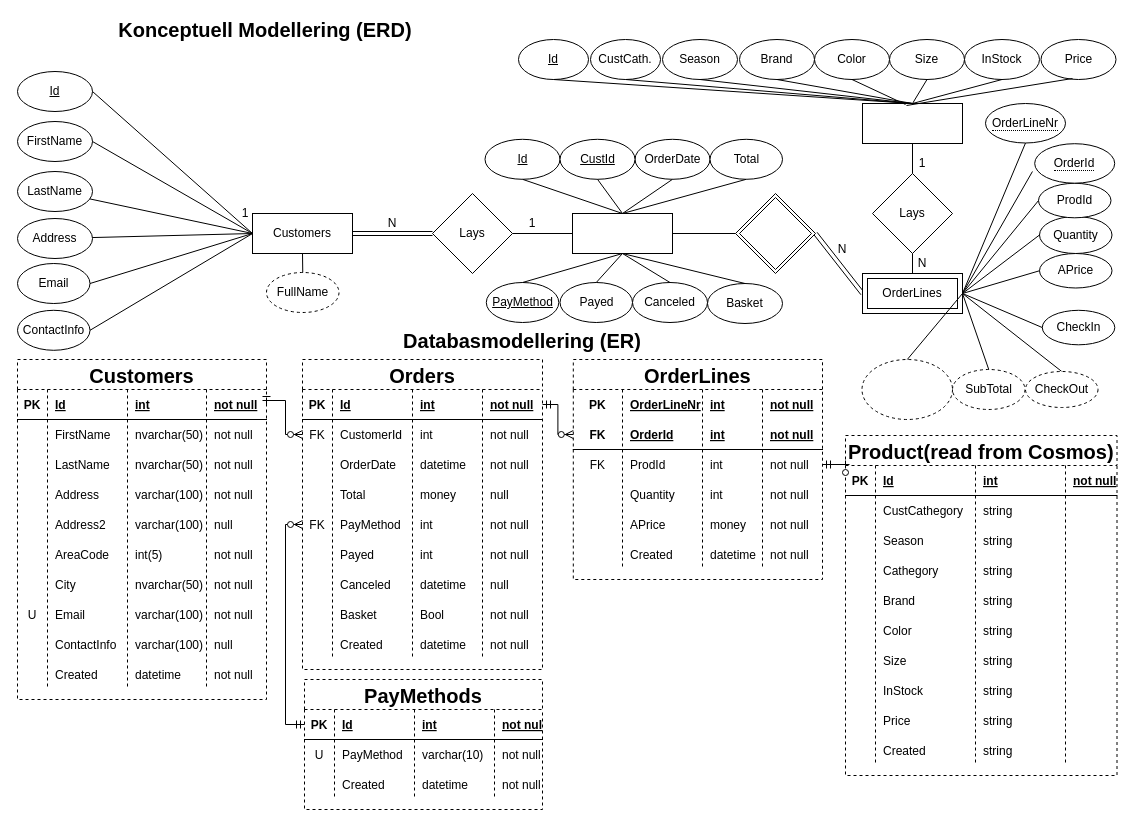
Some shapes in this 1135 by 827 pixel diagram are drawn without their labels. The centre of each missing label's shape, as x and y in pixels:
"Basket/Orders" goes at (622,233).
"Contains" goes at (775,233).
"Products" goes at (912,123).
"ReservationNr OrderId+ OrderLineNr" goes at (906,389).
